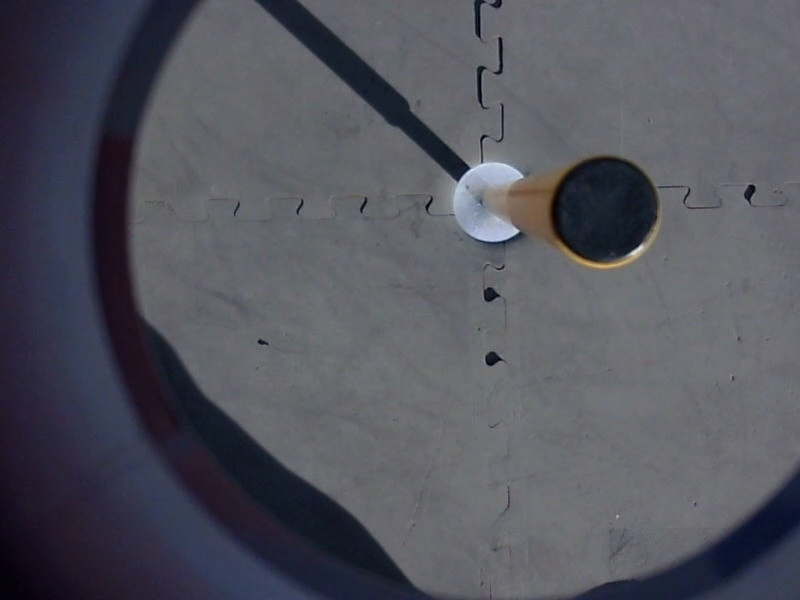tip: (543, 150, 668, 277)
